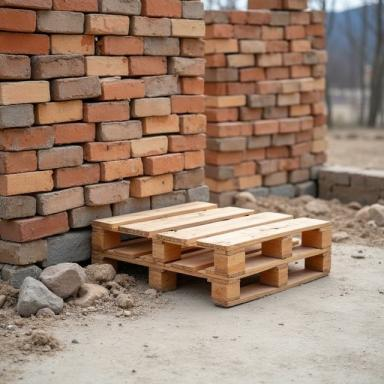pallet: (92, 201, 332, 277), (91, 247, 331, 307)
